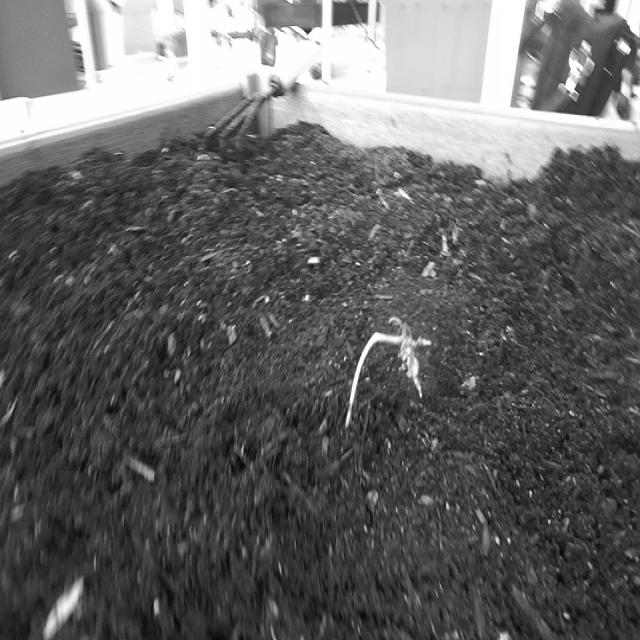Unhealthy: (337, 308, 436, 442)
